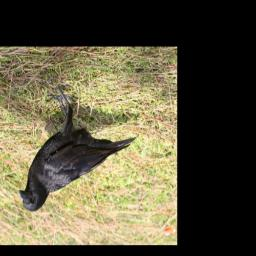Crow: (20, 82, 139, 212)
